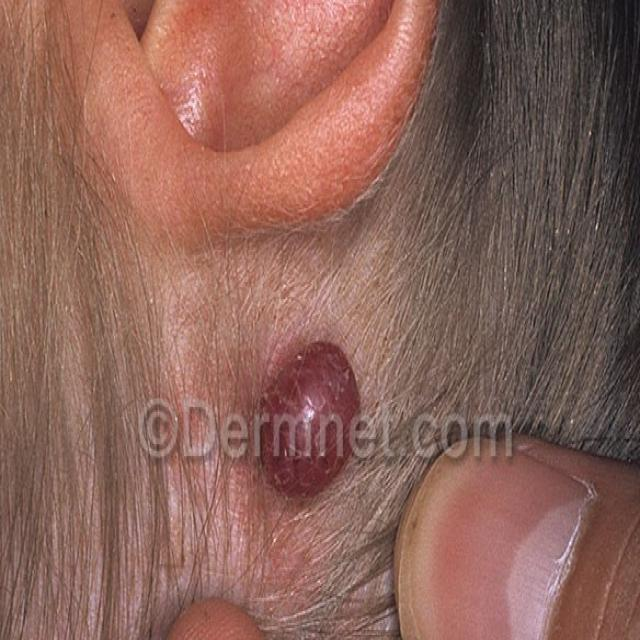Vascular Tumors: (249, 320, 365, 506)
